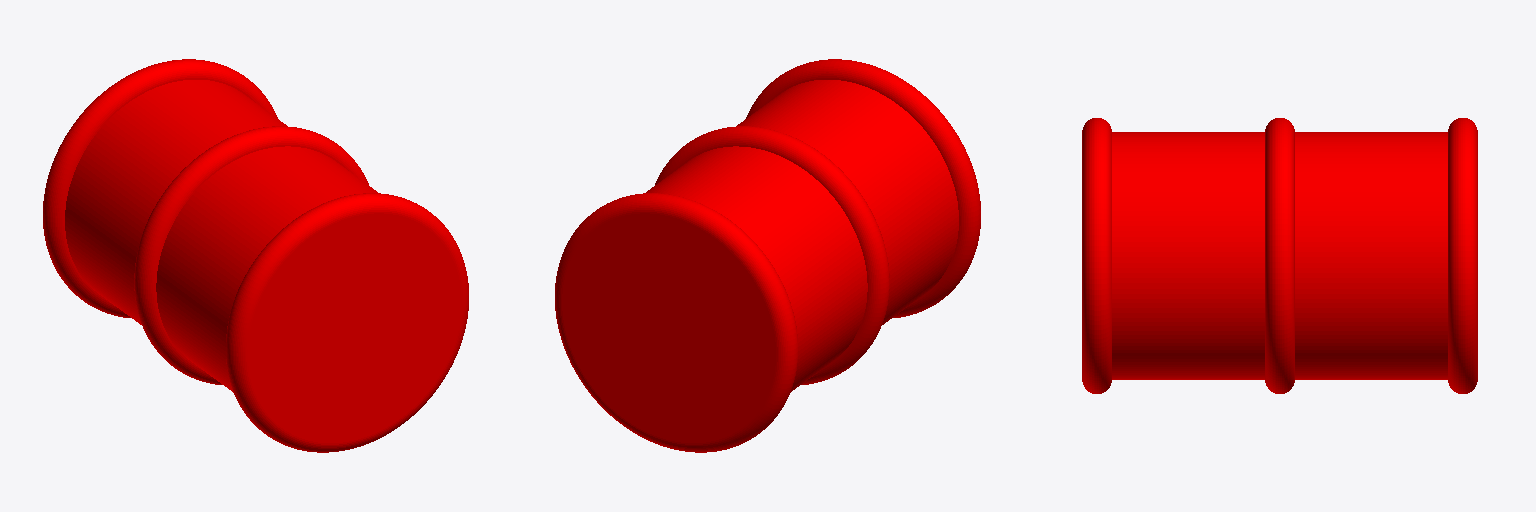
Rendered from Barrel_Red.obj.
3 views of the same model, side by side, from view 1: azimuth 30°, elevation 25°; view 2: azimuth 150°, elevation 25°; view 3: azimuth 270°, elevation 25° (orthographic).
Visible parts, largest first — view 1: Barrel_Red; view 2: Barrel_Red; view 3: Barrel_Red.
Boxes of the visible parts, x1=… form: Barrel_Red: x1=43, y1=59, x2=468, y2=452; Barrel_Red: x1=555, y1=59, x2=980, y2=452; Barrel_Red: x1=1082, y1=118, x2=1477, y2=393.
Bounding box in the file's own units: 56 × 55.99 × 80.